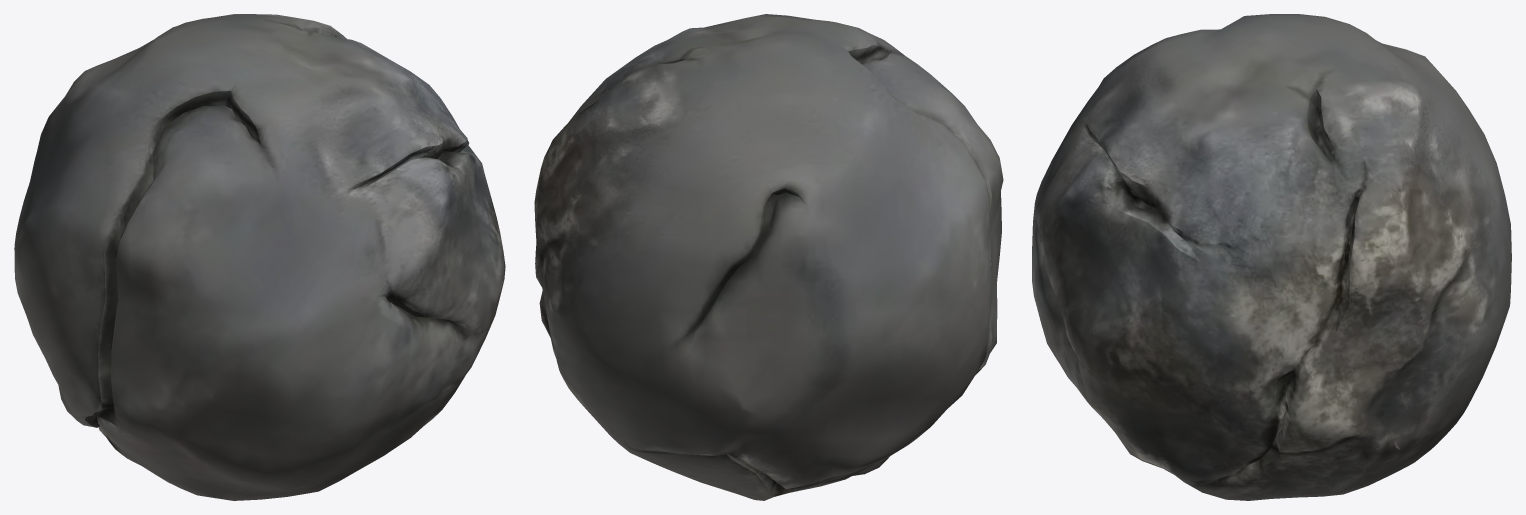
Rendered from boulder.glb.
The picture shows the model from 3 angles, left to right: view 1: azimuth 30°, elevation 25°; view 2: azimuth 150°, elevation 25°; view 3: azimuth 270°, elevation 25°; orthographic projection. The views are drawn at different scales.
Visible parts, largest first — view 1: model; view 2: model; view 3: model.
Boxes of the visible parts, box(x1,y1,x2,y2) form: model: box(14, 14, 505, 500); model: box(534, 14, 1003, 500); model: box(1032, 14, 1511, 500).
Size of the model in its own units: 1 by 1 by 1.
Materials: 1 (1 with a texture image).
